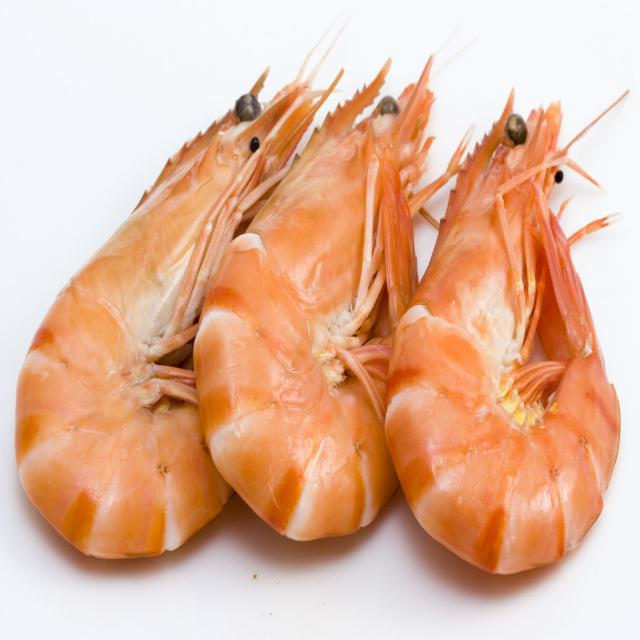camarao: (13, 43, 308, 573), (386, 50, 620, 580), (188, 22, 420, 545)
